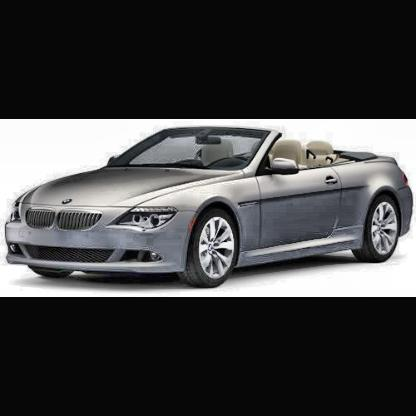BMW 6 Series Convertible 2007: (2, 120, 416, 297)
